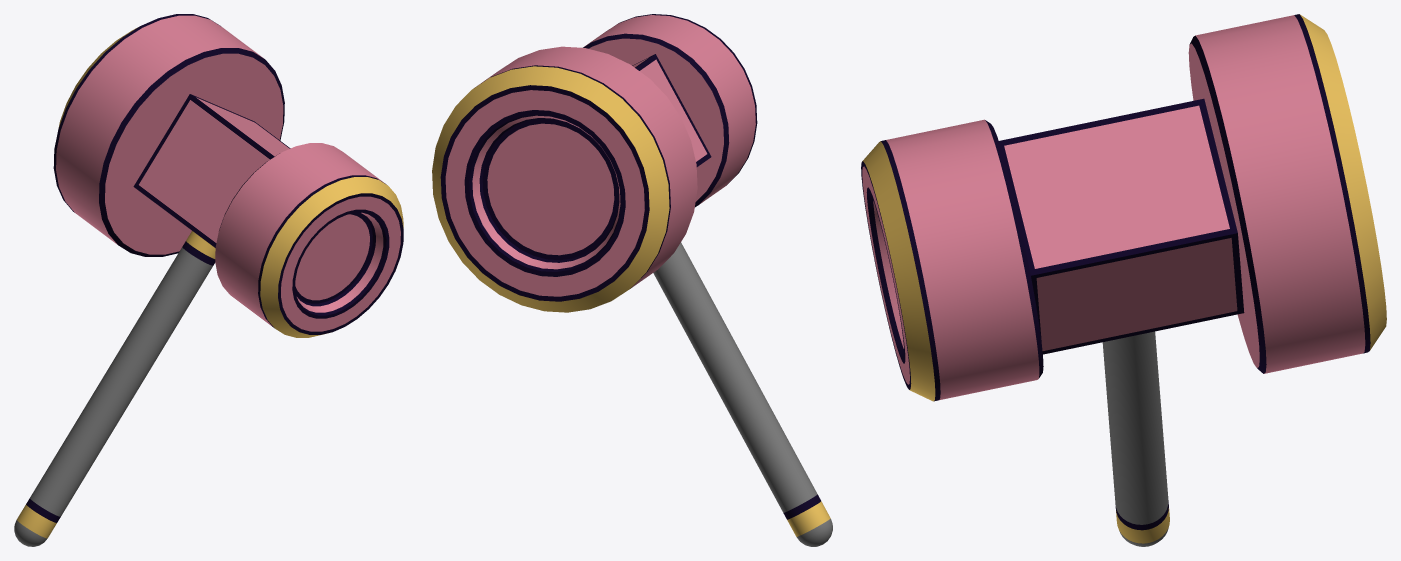
The model's file is Quick hammer.fbx.
3 views of the same model, side by side, from view 1: azimuth 30°, elevation 25°; view 2: azimuth 150°, elevation 25°; view 3: azimuth 270°, elevation 25° (orthographic). The views are drawn at different scales.
Visible parts, largest first — view 1: Hammer.002; view 2: Hammer.002; view 3: Hammer.002.
Boxes of the visible parts, <box> form: Hammer.002: <box>14,14,403,546</box>; Hammer.002: <box>432,14,832,546</box>; Hammer.002: <box>861,14,1386,546</box>.
Size of the model in its own units: 198 by 267 by 197.
